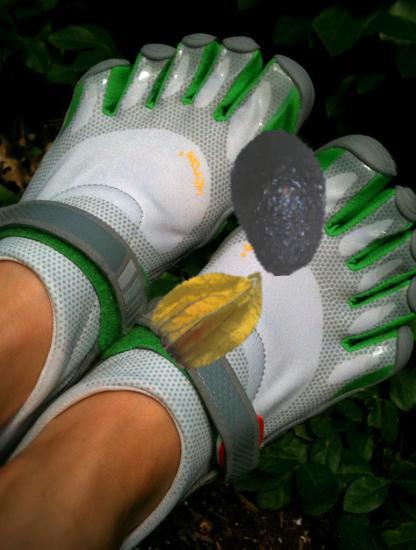Avocado: (206, 130, 352, 276)
Physalis: (151, 249, 276, 374)
